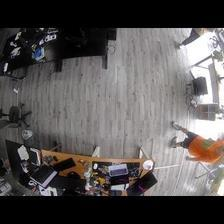normal: (167, 122, 224, 168)
